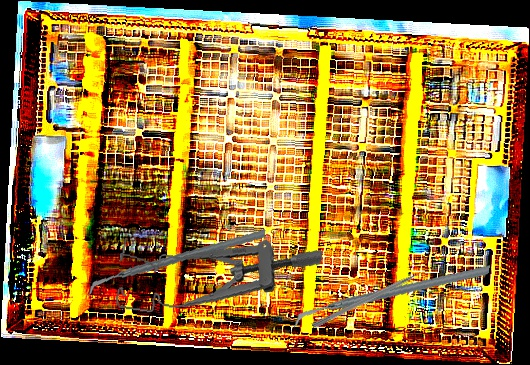Chopper: (293, 232, 491, 361), (87, 209, 266, 316)
Pusher: (311, 265, 434, 330)
Speculum: (112, 219, 324, 337)
